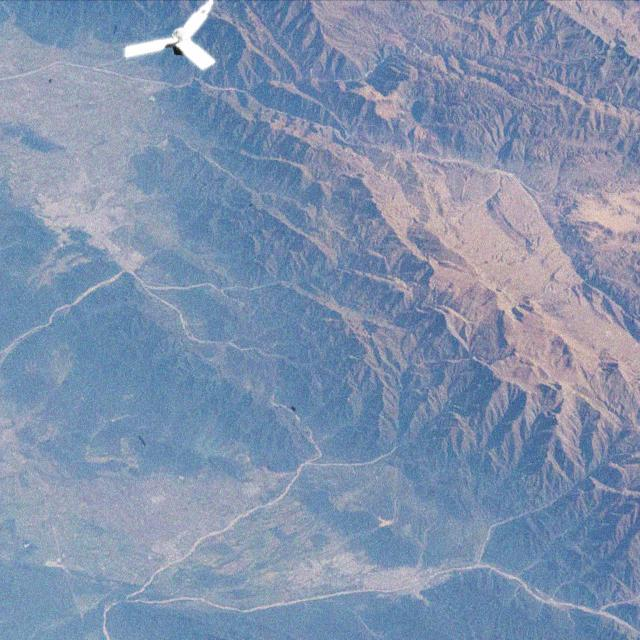satellite: (113, 0, 233, 86)
